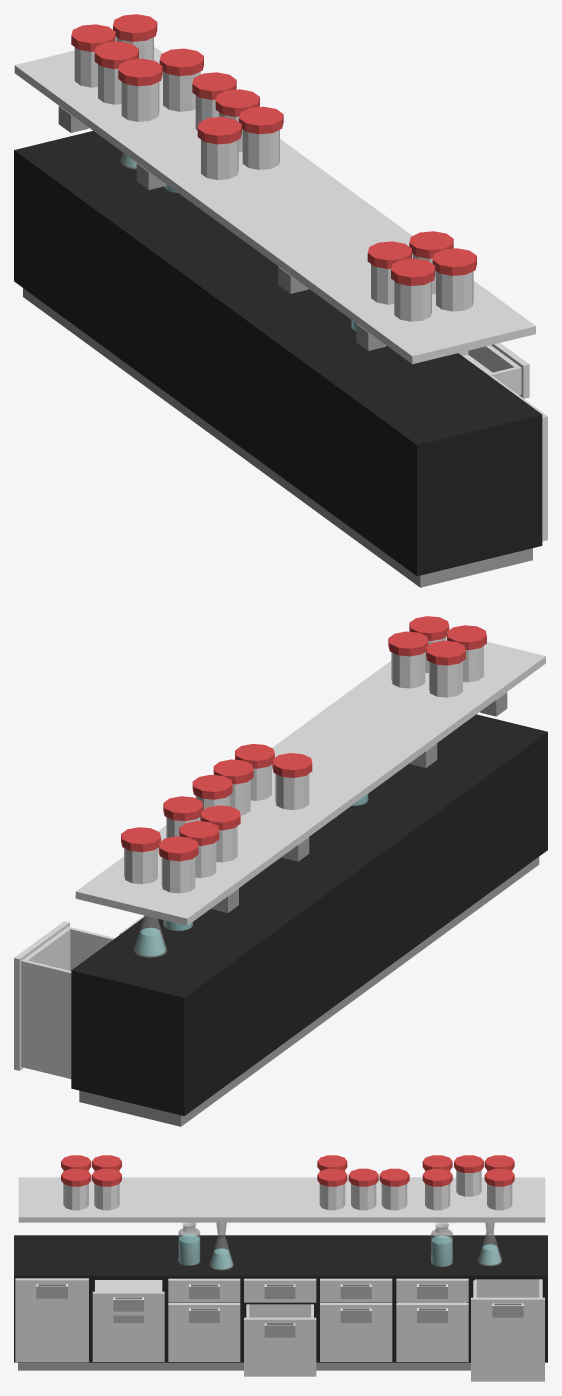
The model's file is Science_Table_002.fbx.
3 renders of one model, top to bottom at view 1: azimuth 30°, elevation 25°; view 2: azimuth 150°, elevation 25°; view 3: azimuth 270°, elevation 25°, orthographic. The views are drawn at different scales.
Parts seen in each view (by area): view 1: polySurface1316, polySurface1306, polySurface1311, polySurface1312, polySurface2350, polySurface2340, polySurface2356, polySurface2343, polySurface2353, polySurface2347, polySurface1326, polySurface2349 (+7 smaller); view 2: polySurface1316, polySurface1306, polySurface1311, polySurface1315, polySurface1312, polySurface2348, polySurface2356, polySurface2342, polySurface2341, polySurface2345, polySurface2350, polySurface2349 (+8 smaller); view 3: polySurface1316, polySurface1306, polySurface1311, polySurface1315, polySurface1321, polySurface1323, polySurface1313, polySurface1324, polySurface1299, polySurface1325, polySurface1312, polySurface1326 (+25 smaller).
Part boxes in pixels (x1=…): polySurface1316: x1=14, y1=131, x2=542, y2=576; polySurface1306: x1=213, y1=180, x2=535, y2=364; polySurface1311: x1=14, y1=40, x2=336, y2=218; polySurface1312: x1=23, y1=288, x2=532, y2=587; polySurface2350: x1=118, y1=58, x2=162, y2=121; polySurface2340: x1=391, y1=258, x2=435, y2=321; polySurface2356: x1=197, y1=117, x2=241, y2=179; polySurface2343: x1=432, y1=248, x2=476, y2=311; polySurface2353: x1=239, y1=106, x2=283, y2=169; polySurface2347: x1=159, y1=48, x2=203, y2=111; polySurface1326: x1=458, y1=343, x2=529, y2=398; polySurface2349: x1=94, y1=41, x2=138, y2=104; polySurface1316: x1=71, y1=714, x2=547, y2=1115; polySurface1306: x1=272, y1=636, x2=545, y2=794; polySurface1311: x1=75, y1=764, x2=366, y2=925; polySurface1315: x1=14, y1=921, x2=114, y2=1078; polySurface1312: x1=79, y1=857, x2=539, y2=1126; polySurface2348: x1=158, y1=836, x2=198, y2=893; polySurface2356: x1=272, y1=753, x2=312, y2=809; polySurface2342: x1=388, y1=631, x2=428, y2=688; polySurface2341: x1=426, y1=640, x2=465, y2=697; polySurface2345: x1=121, y1=827, x2=160, y2=884; polySurface2350: x1=200, y1=805, x2=240, y2=862; polySurface2349: x1=179, y1=821, x2=219, y2=877; polySurface1316: x1=14, y1=1235, x2=547, y2=1362; polySurface1306: x1=18, y1=1177, x2=281, y2=1222; polySurface1311: x1=282, y1=1177, x2=545, y2=1222; polySurface1315: x1=471, y1=1279, x2=544, y2=1381; polySurface1321: x1=15, y1=1278, x2=88, y2=1362; polySurface1323: x1=244, y1=1304, x2=316, y2=1376; polySurface1313: x1=396, y1=1302, x2=468, y2=1361; polySurface1324: x1=168, y1=1303, x2=240, y2=1361; polySurface1299: x1=320, y1=1303, x2=392, y2=1361; polySurface1325: x1=92, y1=1315, x2=164, y2=1361; polySurface1312: x1=18, y1=1362, x2=470, y2=1370; polySurface1326: x1=92, y1=1280, x2=164, y2=1315.
Size of the model in its own units: 1.06 by 1.43 by 3.75.
